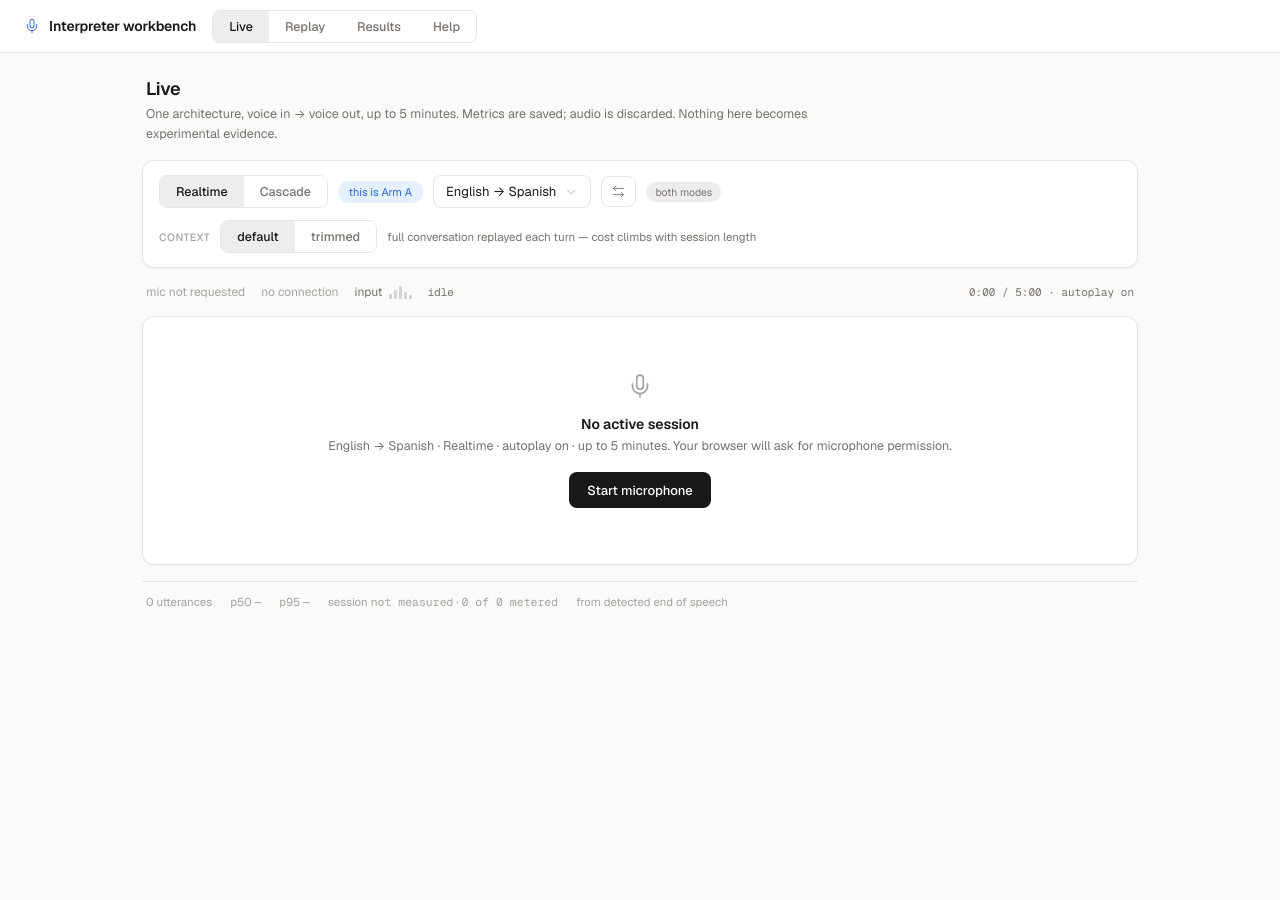
Test: the single target card › realtime: ONE labelled row — the model interval, explicitly labelled opaque
Click the button "Start microphone" at (640, 490), box left=569, top=472, right=711, bottom=508
Wait 1100 ms
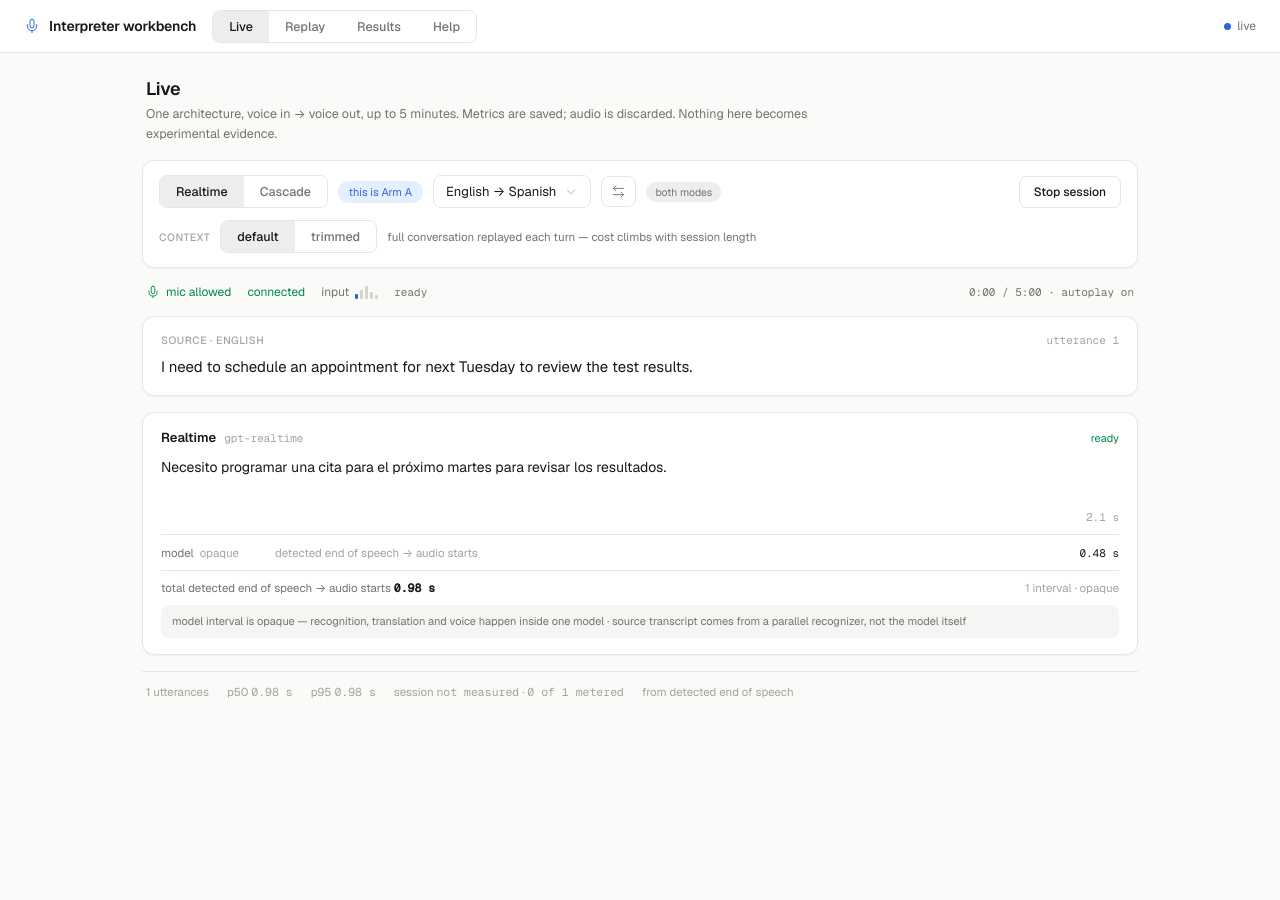
Expected: the text "Realtime" is shown, left=161, top=429, right=216, bottom=446
Expected: the text "gpt-realtime" is shown, left=224, top=431, right=303, bottom=445
Expected: the element that starts with "model" is shown, left=161, top=545, right=1119, bottom=560
